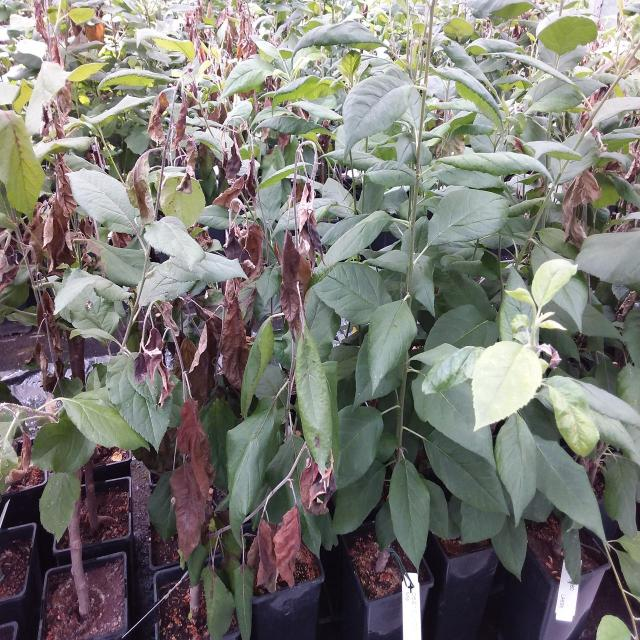-FireBlight-: (136, 275, 254, 572), (1, 152, 108, 392), (242, 442, 339, 595), (121, 74, 201, 221), (279, 138, 330, 340), (212, 118, 264, 285), (560, 171, 601, 250)
